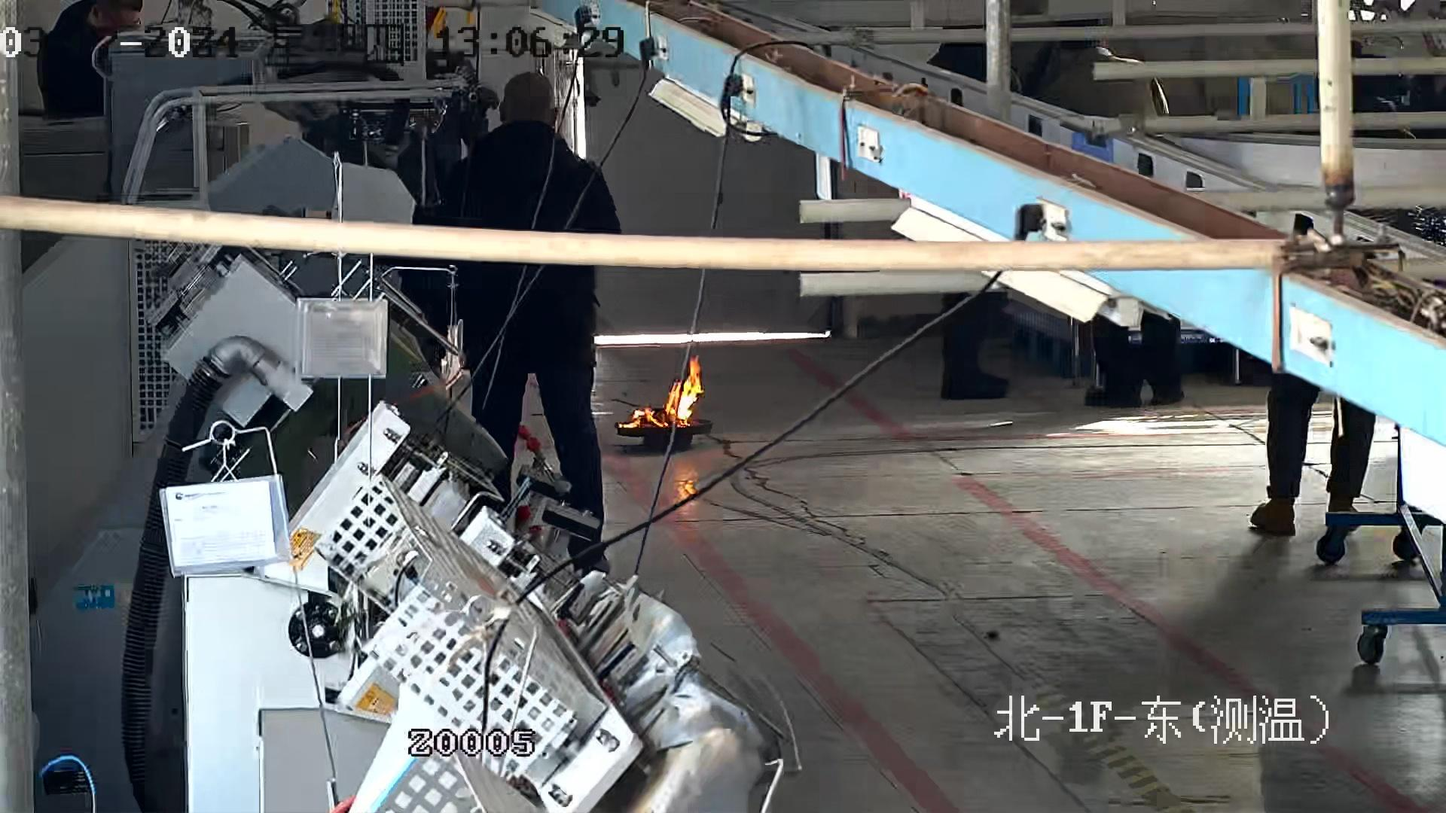fire: (618, 356, 703, 431)
